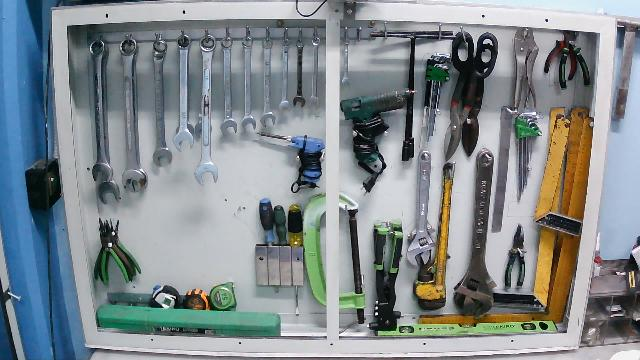kunci_inggris: (404, 145, 438, 269)
